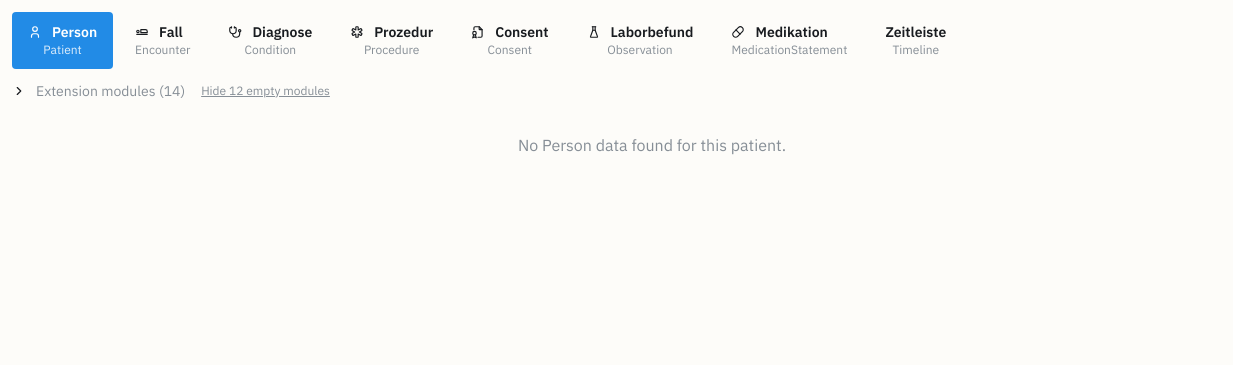
Test: Phase 42 (MII-EXT-15) — pre-probe counts on extension tabs › dim on zero — opacity 0.55 + data-empty=true
Click the button "Extension modules (14)" at (99, 91), box x1=12 y1=81 x2=185 y2=101
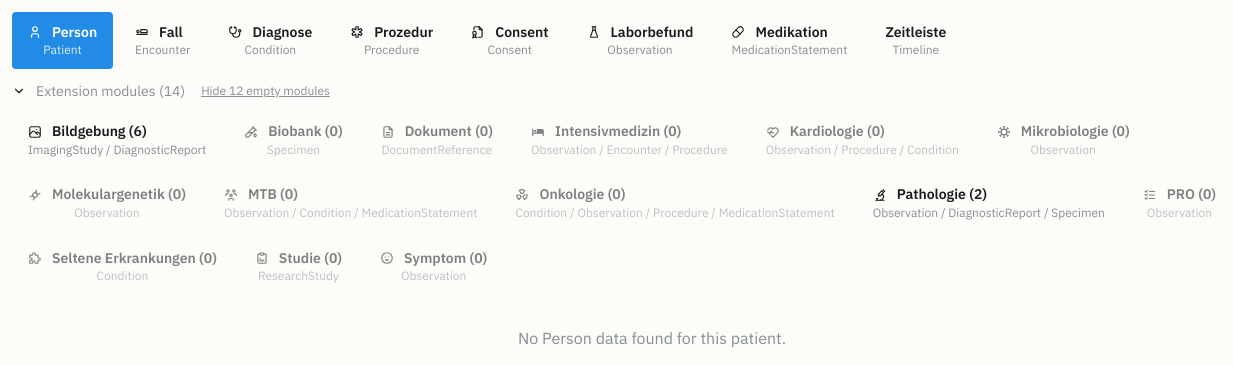
Check: the text "Onkologie (0)" is shown, box x1=539 y1=184 x2=625 y2=205
Check: the text "Bildgebung (6)" is shown, box x1=52 y1=121 x2=147 y2=142
Check: the text "Bildgebung (6) ImagingStudy / DiagnosticReport" is shown, box x1=28 y1=121 x2=206 y2=158
